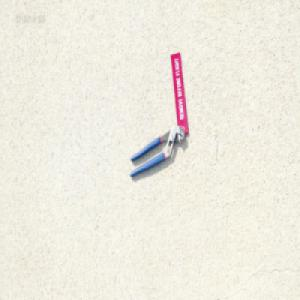Label: (171, 51, 190, 133)
Pliers: (129, 123, 185, 178)
